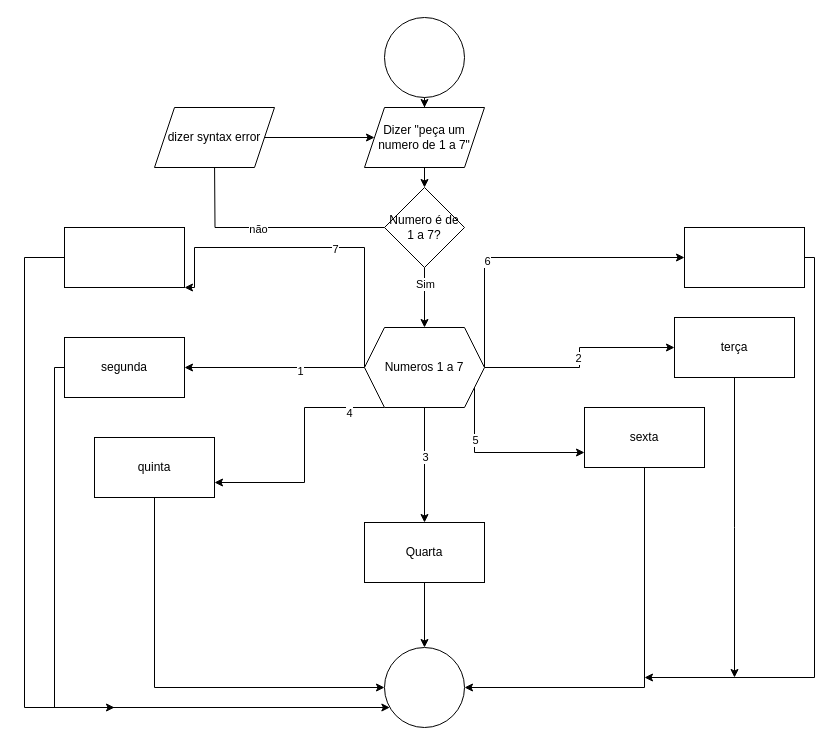
This 840x745 diagram has some shape labels left out. The centre of each missing label's shape, as x and y in pixels:
"domingo" belongs at (124,257).
"fim" belongs at (424,687).
"Inicio" belongs at (424,57).
"sábado" belongs at (744,257).
